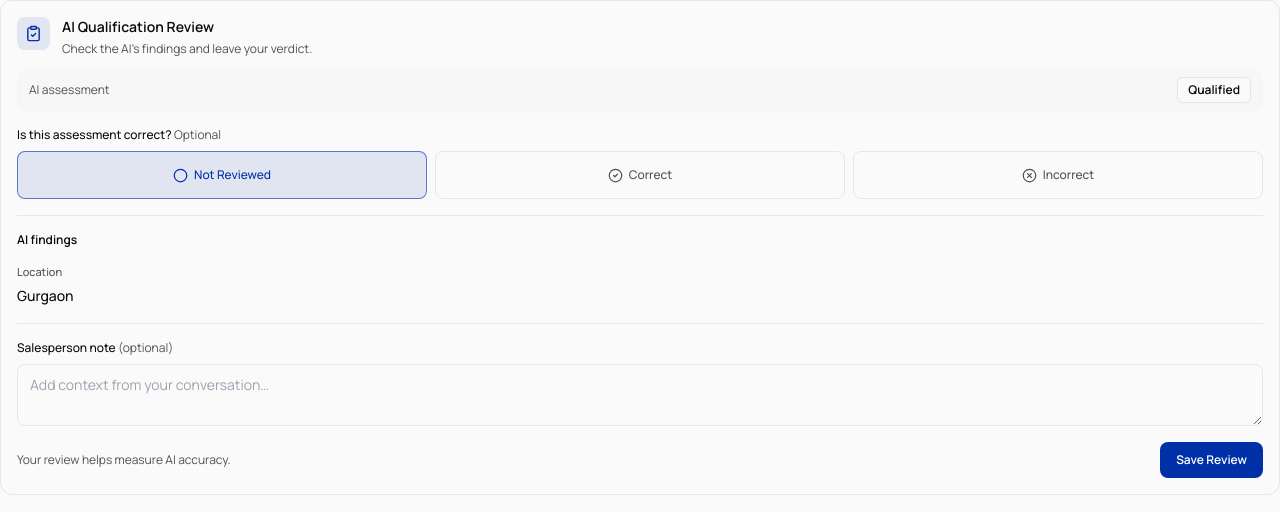
Test: a late save response cannot replace a newer qualification result
Click the radio button labelled "Correct" at (640, 175), box [435, 151, 845, 199]
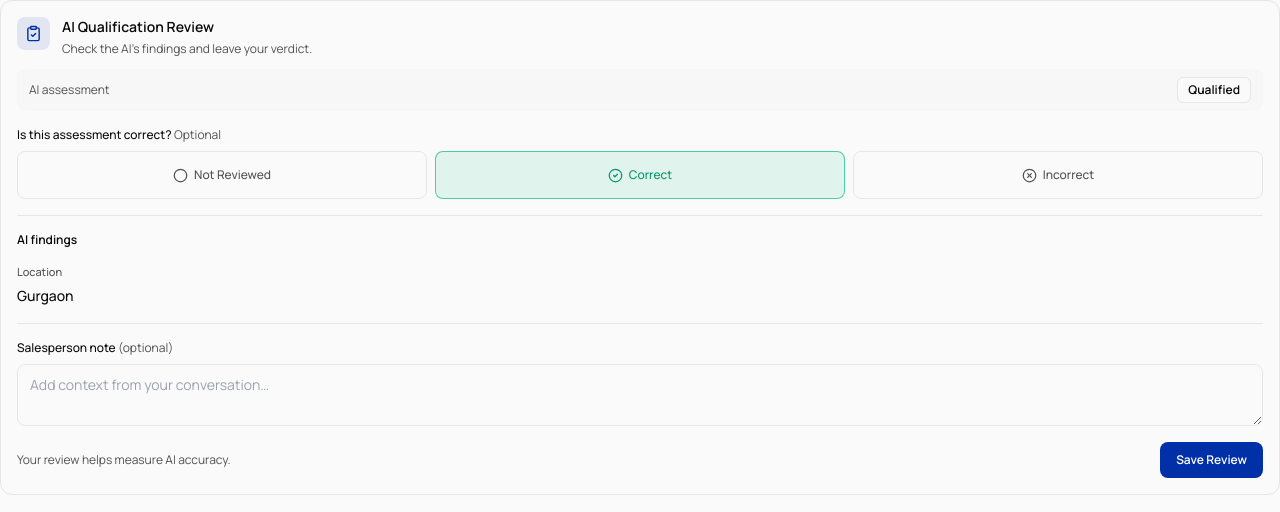
Click the button "Save Review" at (1212, 460), box [1160, 442, 1263, 478]
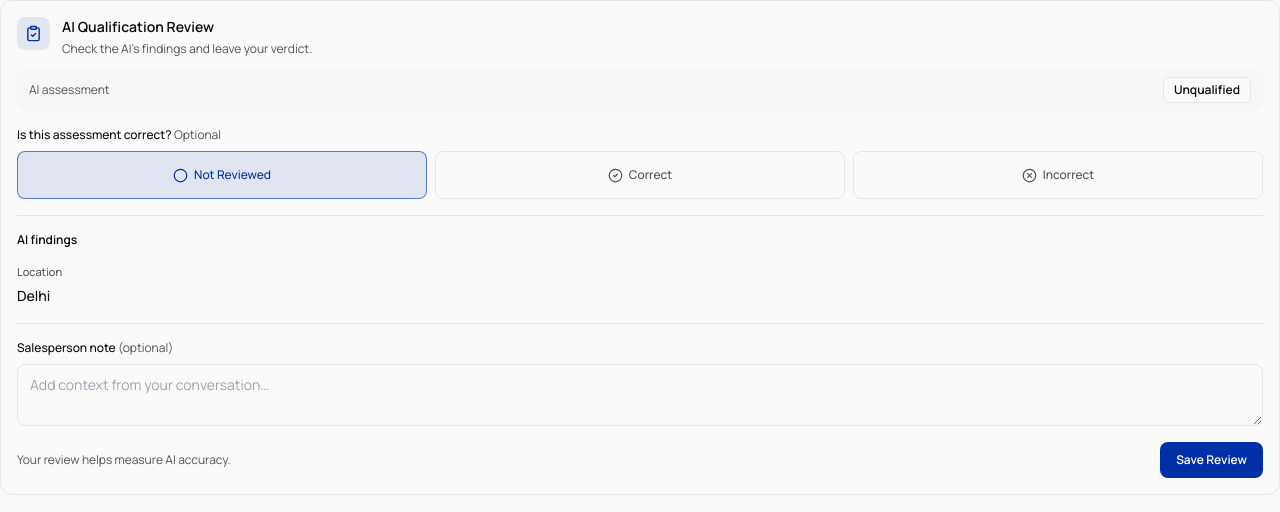
Expected: the text "Delhi" is shown, [17, 286, 50, 304]
Expected: the text "Gurgaon" is gone
Expected: the radio button labelled "Not Reviewed" is checked, [17, 151, 427, 199]
